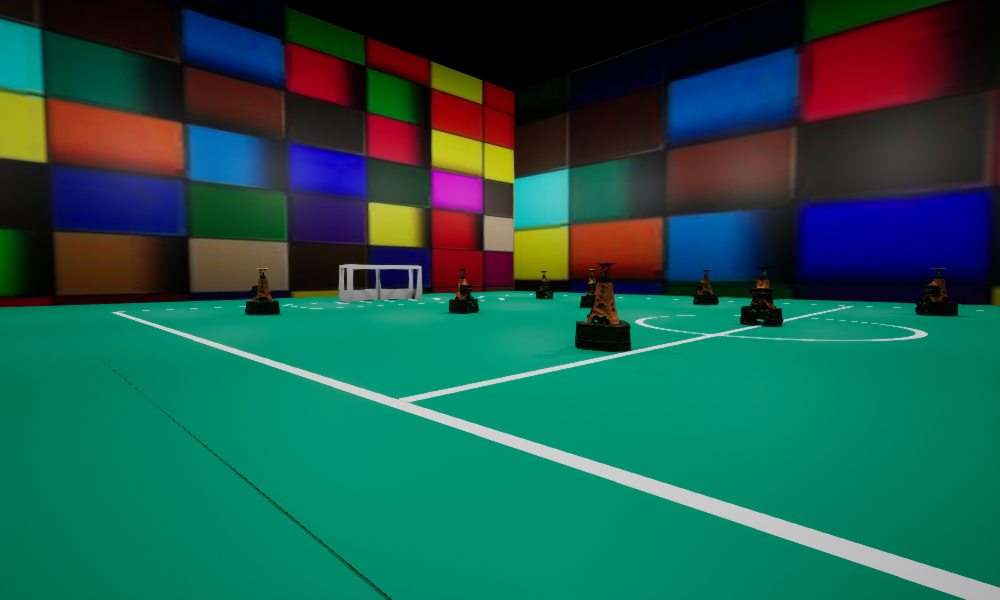0 orange robot TechUnited: (575, 262, 630, 351), (740, 267, 782, 325), (915, 268, 957, 315), (245, 268, 279, 314), (449, 269, 478, 313), (693, 270, 718, 304), (580, 269, 595, 307), (536, 271, 552, 298)
